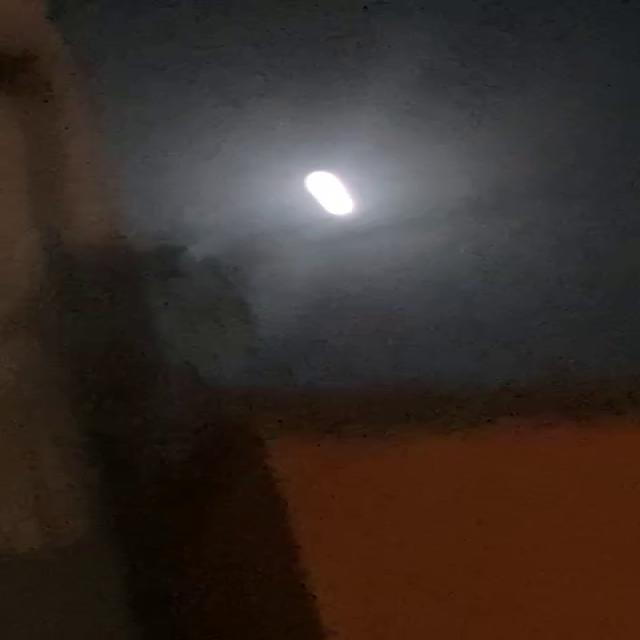moon: (302, 161, 362, 223)
